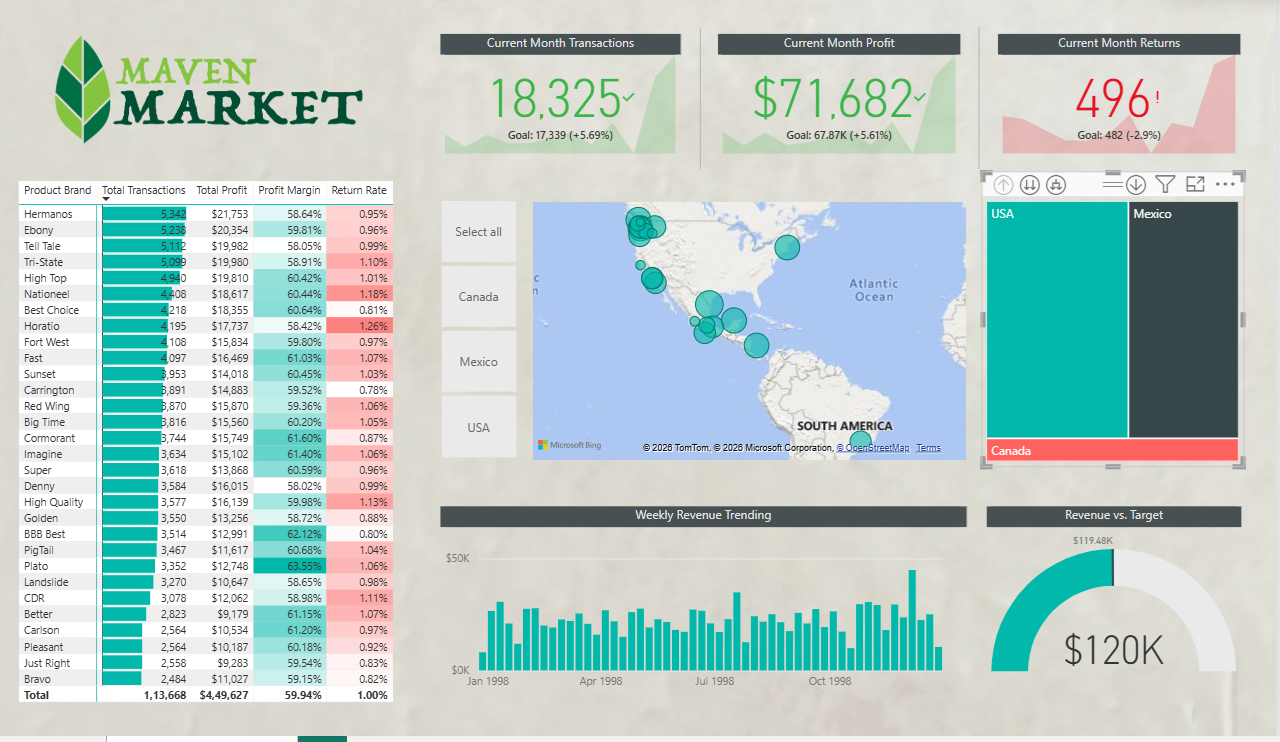

This screenshot's page, from the dashboard's own definition file:
{"tool":"powerbi","page":{"name":"Topline Performance","canvas":[1280,720],"ordinal":0},"visuals":[{"type":"image","box":[40,7.5,346.6,132.7],"z":0},{"type":"pivotTable","fields":{"Values":["Transaction_Data.Total Transactions","Transaction_Data.Total Profit","Transaction_Data.Profit Margin","Return_Data.Return Rate"],"Rows":["Products.product_brand"]},"box":[20.6,161.3,401.5,536],"z":1000},{"type":"kpi","title":"Current Month Transactions","fields":{"TrendLine":["Calendar.Start of Month"],"Goal":["Transaction_Data.Last Month Transactions"],"Indicator":["Transaction_Data.Total Transactions"]},"box":[445.9,19,240.2,124.7],"z":2000},{"type":"kpi","title":"Current Month Profit","fields":{"TrendLine":["Calendar.Start of Month"],"Goal":["Transaction_Data.Last Month Profit"],"Indicator":["Transaction_Data.Total Profit"]},"box":[723.3,19,242.5,124.7],"z":3000},{"type":"kpi","title":"Current Month Returns","fields":{"TrendLine":["Calendar.Start of Month"],"Goal":["Return_Data.Last Month Returns"],"Indicator":["Return_Data.Total Returns"]},"box":[1003,19,242.5,124.7],"z":4000},{"type":"map","fields":{"Category":["Stores.store_city"],"Size":["Transaction_Data.Total Transactions"]},"box":[532.8,182.5,442.7,266.5],"z":5000},{"type":"slicer","fields":{"Values":["Stores.store_country"]},"box":[420.5,178.9,124.7,270],"z":6000},{"type":"columnChart","title":"Weekly Revenue Trending","fields":{"Category":["Calendar.Start of Week"],"Y":["Transaction_Data.Total Revenue"]},"box":[445.9,490,525.3,192.2],"z":7000},{"type":"gauge","title":"Revenue vs. Target","fields":{"Y":["Transaction_Data.Total Revenue"],"TargetValue":["Transaction_Data.Revenue Target"]},"box":[991.1,490,254.4,171.6],"z":8000},{"type":"basicShape","box":[671.7,2.9,67.5,161.3],"z":9000},{"type":"basicShape","box":[950.3,2.9,67.5,161.3],"z":10000},{"type":"treemap","fields":{"Group":["Stores.store_country","Stores.store_state","Stores.store_city"],"Values":["Transaction_Data.Total Transactions"]},"box":[985.8,181.4,261.9,270],"z":11000}]}

Visuals, with their boxes in screenshot pixels (x1, y1, x2, y2), scaled from the page's 1280x720 canvas onto the 1280x742 screenshot:
image: bbox(40, 8, 387, 144)
pivotTable - Transaction_Data.Total Transactions x Transaction_Data.Total Profit: bbox(21, 166, 422, 719)
"Current Month Transactions" kpi: bbox(446, 20, 686, 148)
"Current Month Profit" kpi: bbox(723, 20, 966, 148)
"Current Month Returns" kpi: bbox(1003, 20, 1246, 148)
map - Stores.store_city x Transaction_Data.Total Transactions: bbox(533, 188, 976, 463)
slicer - Stores.store_country: bbox(420, 184, 545, 463)
"Weekly Revenue Trending" columnChart: bbox(446, 505, 971, 703)
"Revenue vs. Target" gauge: bbox(991, 505, 1246, 682)
basicShape: bbox(672, 3, 739, 169)
basicShape: bbox(950, 3, 1018, 169)
treemap - Stores.store_country x Stores.store_state: bbox(986, 187, 1248, 465)
